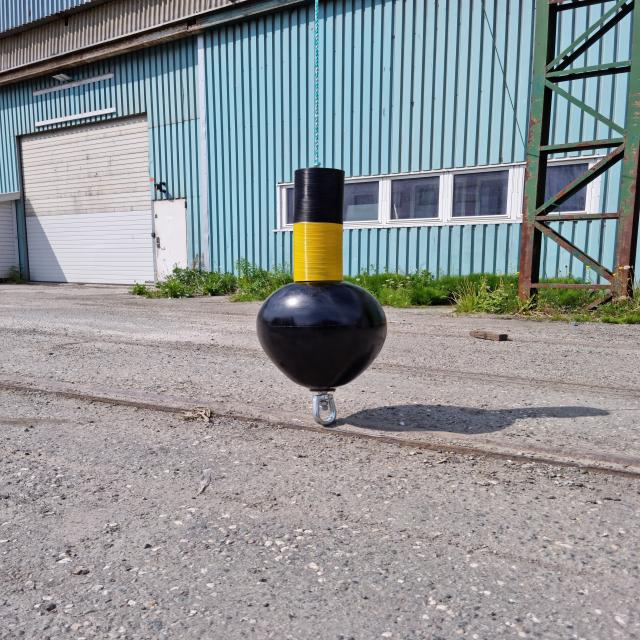east: (256, 168, 386, 390)
